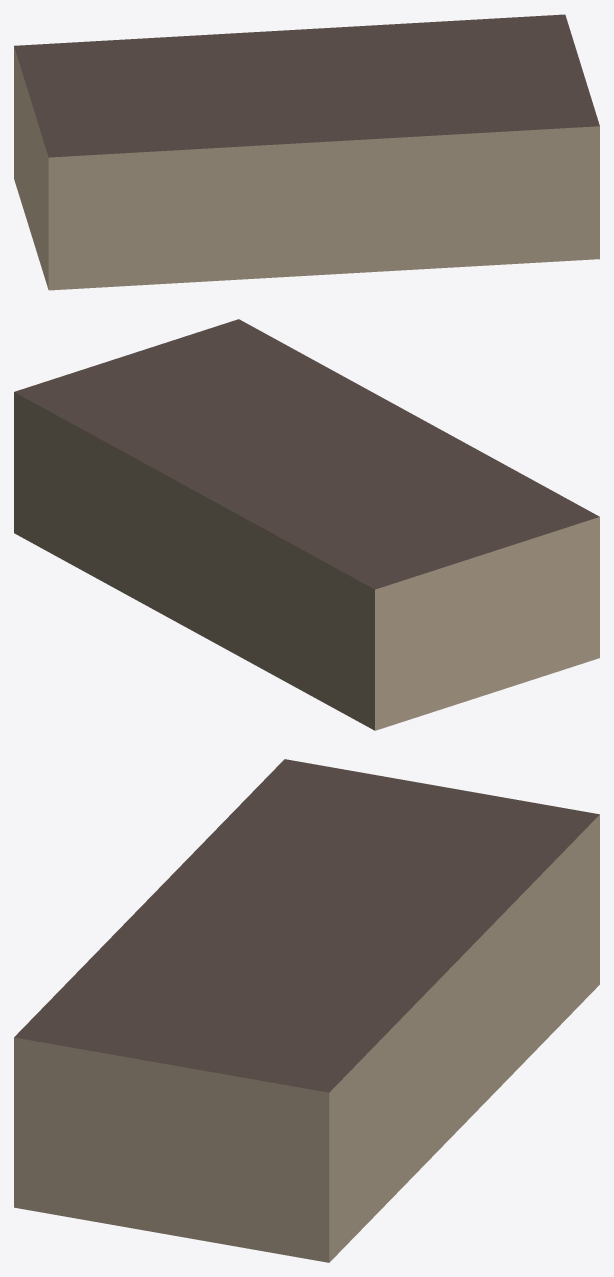
3 renders of one model, top to bottom at view 1: azimuth 30°, elevation 25°; view 2: azimuth 150°, elevation 25°; view 3: azimuth 270°, elevation 25°, orthographic. The views are drawn at different scales.
Visible parts, largest first — view 1: HP-w859488841; view 2: HP-w859488841; view 3: HP-w859488841.
Part boxes in pixels (<box>): HP-w859488841: <box>14,14,599,290</box>; HP-w859488841: <box>14,319,599,730</box>; HP-w859488841: <box>14,759,599,1262</box>.
Size of the model in its own units: 37.84 by 9 by 28.08.
